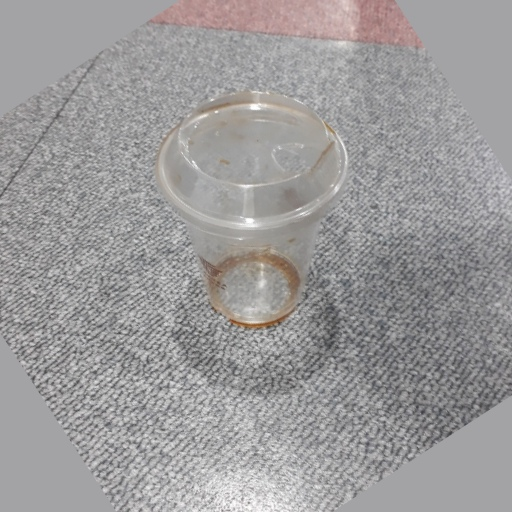Plastic_2: (152, 88, 351, 327)
